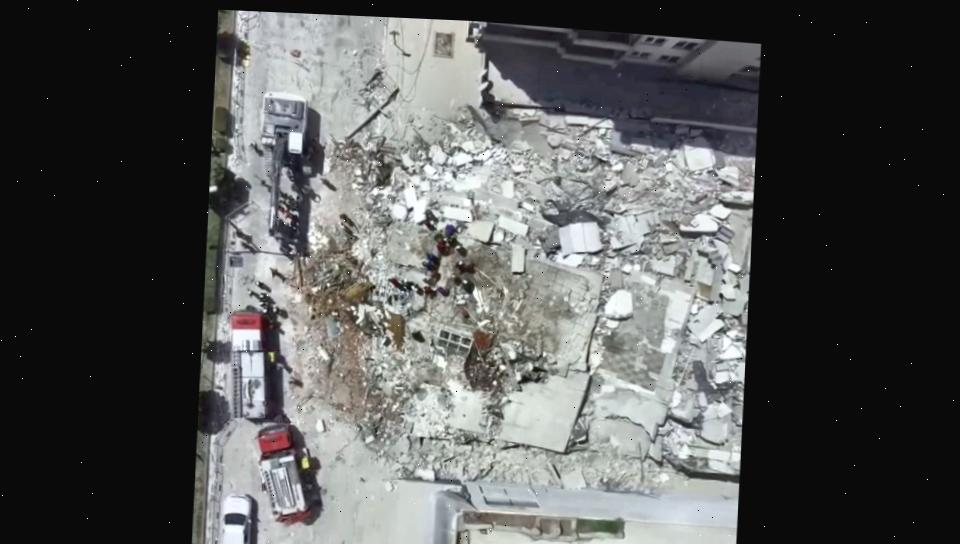kapali: (206, 33, 383, 544)
